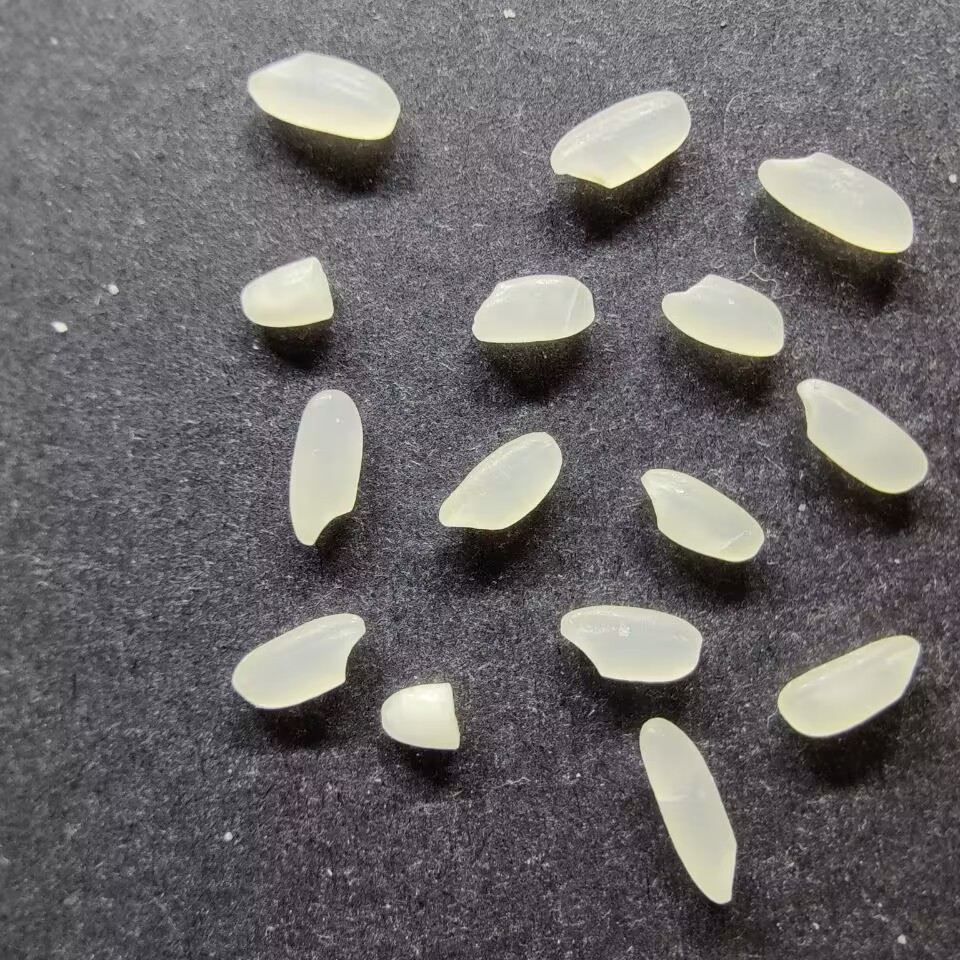broken: (240, 255, 333, 328), (379, 683, 460, 751)
rice: (638, 716, 736, 905), (756, 150, 914, 254), (795, 378, 929, 494), (776, 634, 919, 738), (550, 90, 691, 189), (247, 51, 399, 140), (230, 612, 366, 709), (437, 431, 563, 531), (288, 388, 363, 547), (640, 468, 763, 562), (559, 604, 700, 683), (660, 273, 785, 357), (471, 274, 593, 344)
